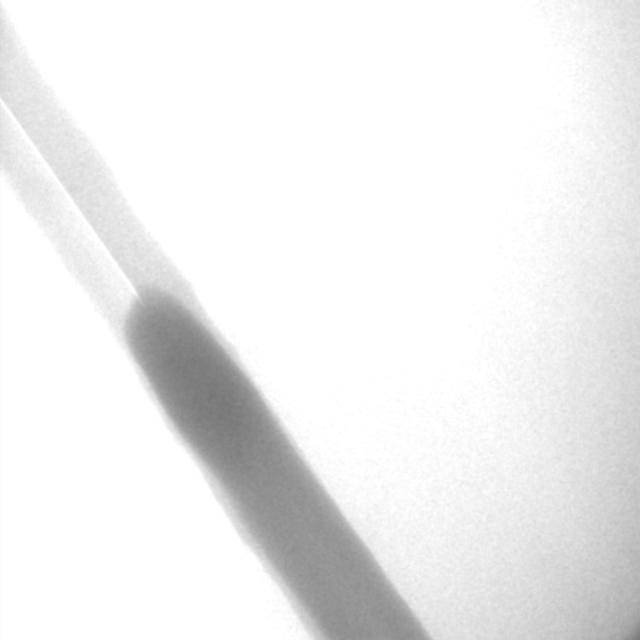broken arc: (1, 98, 139, 298)
